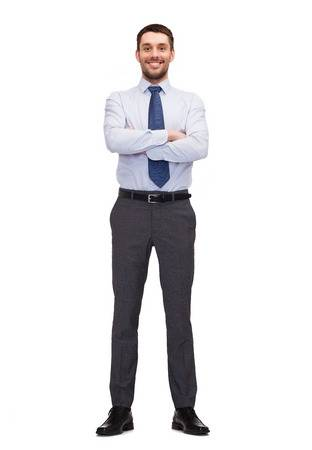F_belt: (118, 182, 193, 203)
F_dress pants: (105, 190, 205, 414)
F_shirt: (104, 79, 210, 191)
F_tie: (138, 89, 169, 188)
